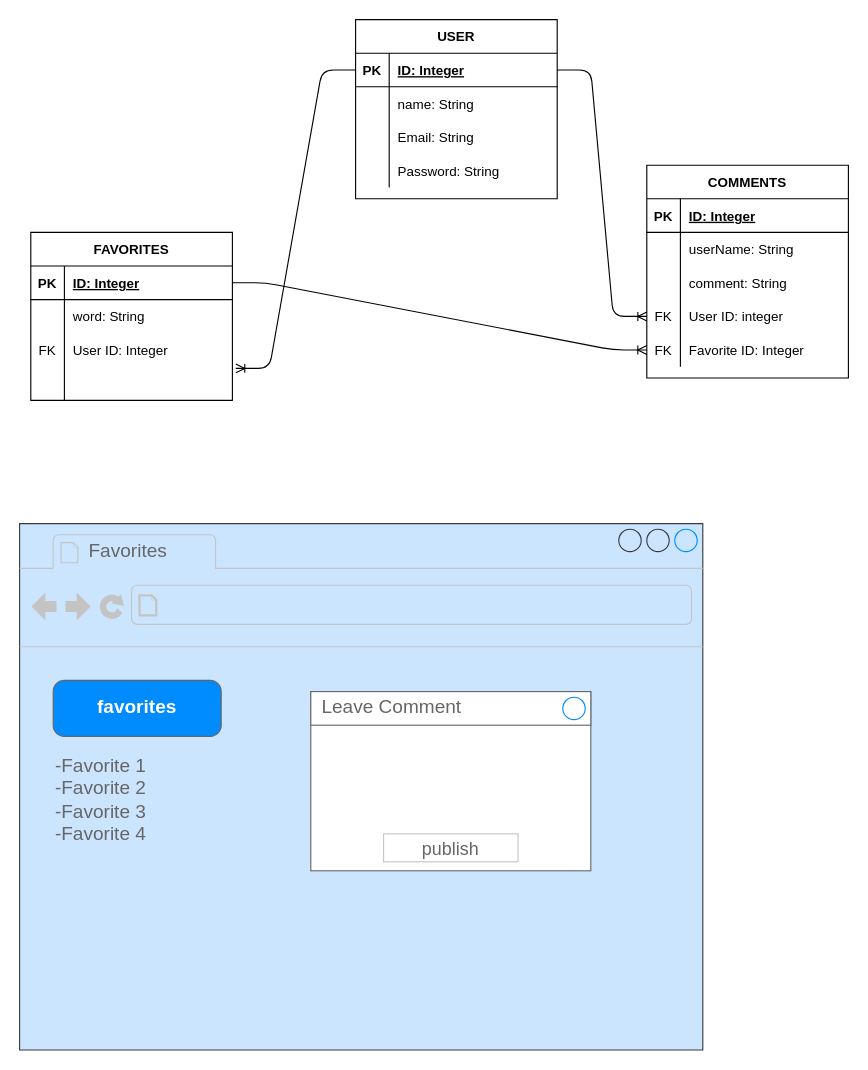
The diagram is 868 pixels wide and 1070 high, and some of its shapes have lost their labels. Each missing label, with the centre of its shape:
Comment Content: the point at 450,780
Favorites page: the point at 304,605
